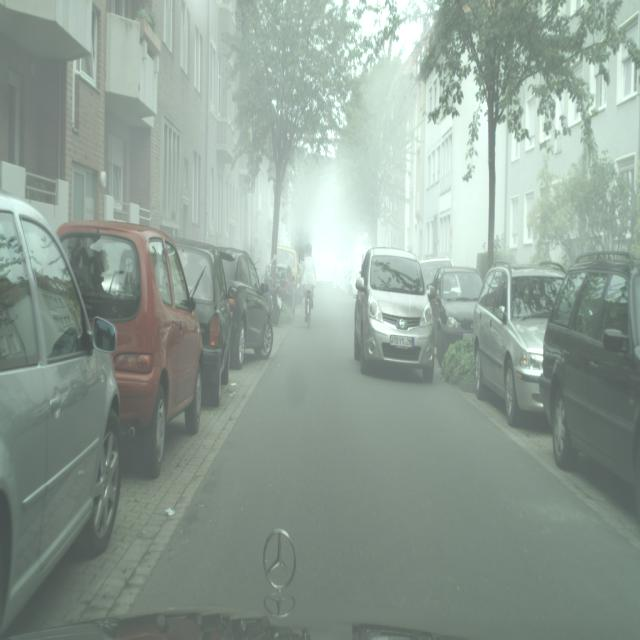bus: (0, 191, 122, 631), (55, 221, 203, 476), (539, 254, 640, 523), (472, 261, 566, 427), (353, 246, 437, 383), (178, 242, 232, 407), (216, 248, 274, 366), (426, 264, 482, 364), (421, 255, 453, 292)
car: (302, 242, 314, 328)
